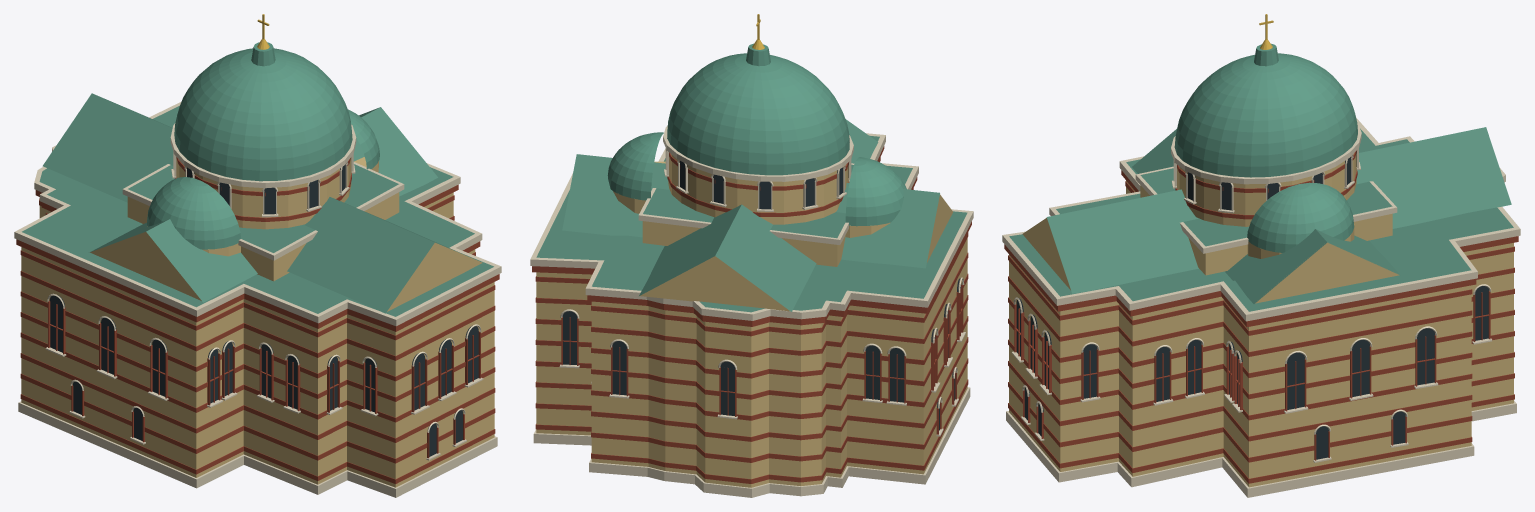
File: st_sophia_cathedral_bayswater.glb
3 renders of one model, left to right at view 1: azimuth 30°, elevation 25°; view 2: azimuth 150°, elevation 25°; view 3: azimuth 270°, elevation 25°, orthographic. The views are drawn at different scales.
Size of the model in its own units: 32.14 by 30.58 by 35.58.
